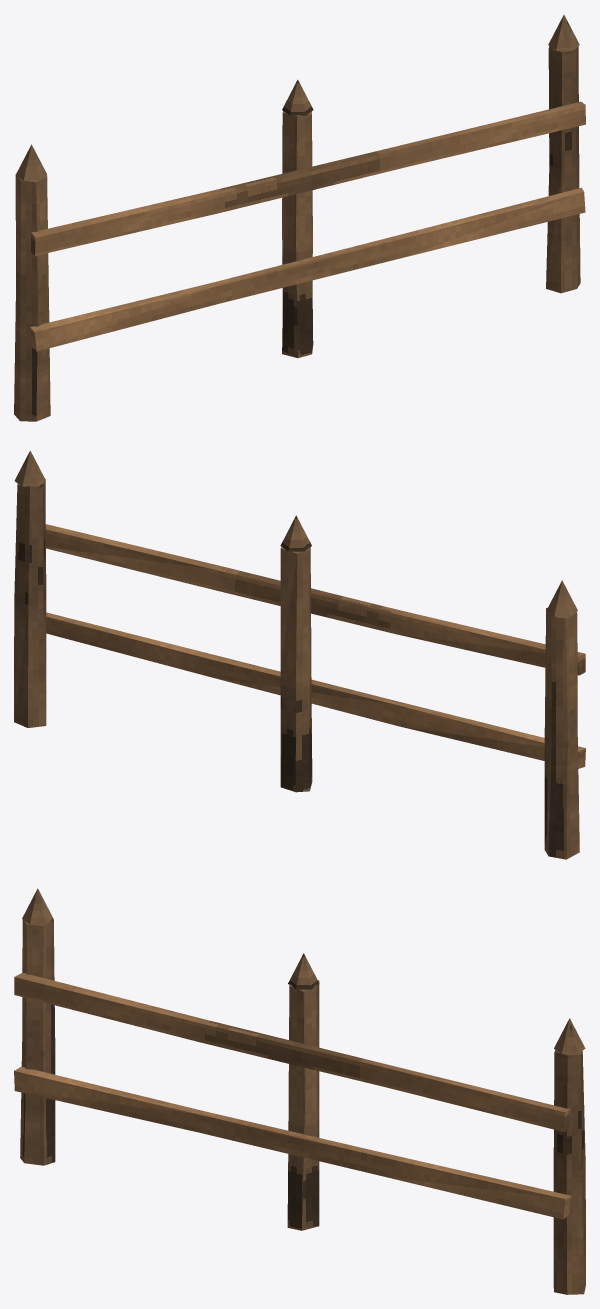
The model's file is cerca.glb.
3 views of the same model, one above another, from view 1: azimuth 30°, elevation 25°; view 2: azimuth 150°, elevation 25°; view 3: azimuth 330°, elevation 25° (orthographic).
Visible parts, largest first — view 1: cerca_madeira, cerca_tronco; view 2: cerca_tronco, cerca_madeira; view 3: cerca_madeira, cerca_tronco.
Boxes of the visible parts, left/top/right/bottom form: cerca_madeira: left=30, top=101, right=585, bottom=351; cerca_tronco: left=14, top=15, right=580, bottom=421; cerca_tronco: left=14, top=450, right=579, bottom=859; cerca_madeira: left=45, top=524, right=585, bottom=768; cerca_madeira: left=14, top=972, right=571, bottom=1219; cerca_tronco: left=20, top=888, right=585, bottom=1294.
Bounding box in the file's own units: 3.06 × 1.42 × 0.2154.
2 materials, 2 textured.
